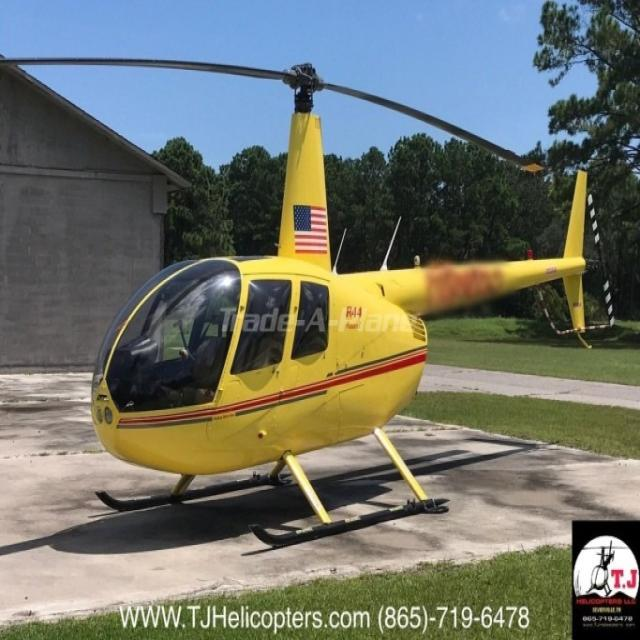CIV_HELO: (87, 59, 603, 550)
